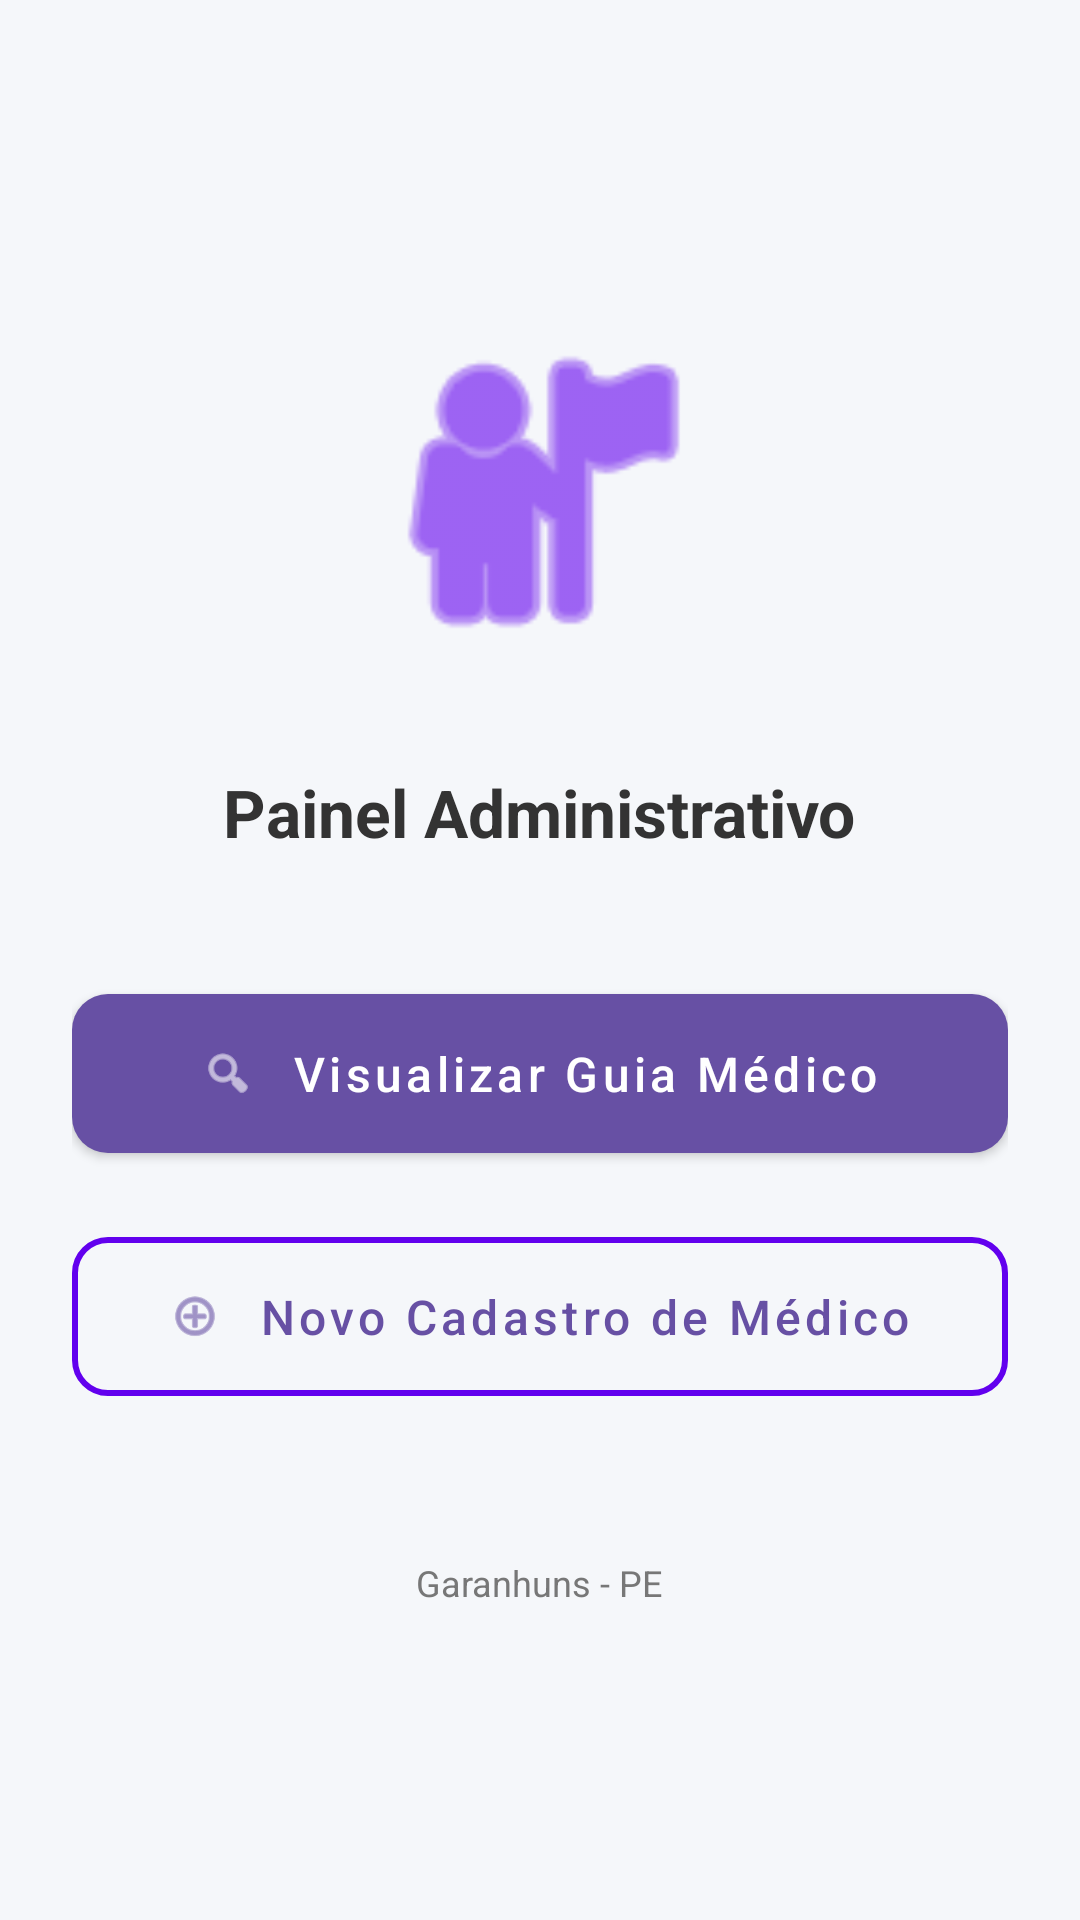

Locate icon controls on the screen. Image size 1080 x 1920, boxes as (x1, y1, x2, y2).
myplaces: (408, 357, 679, 627)
